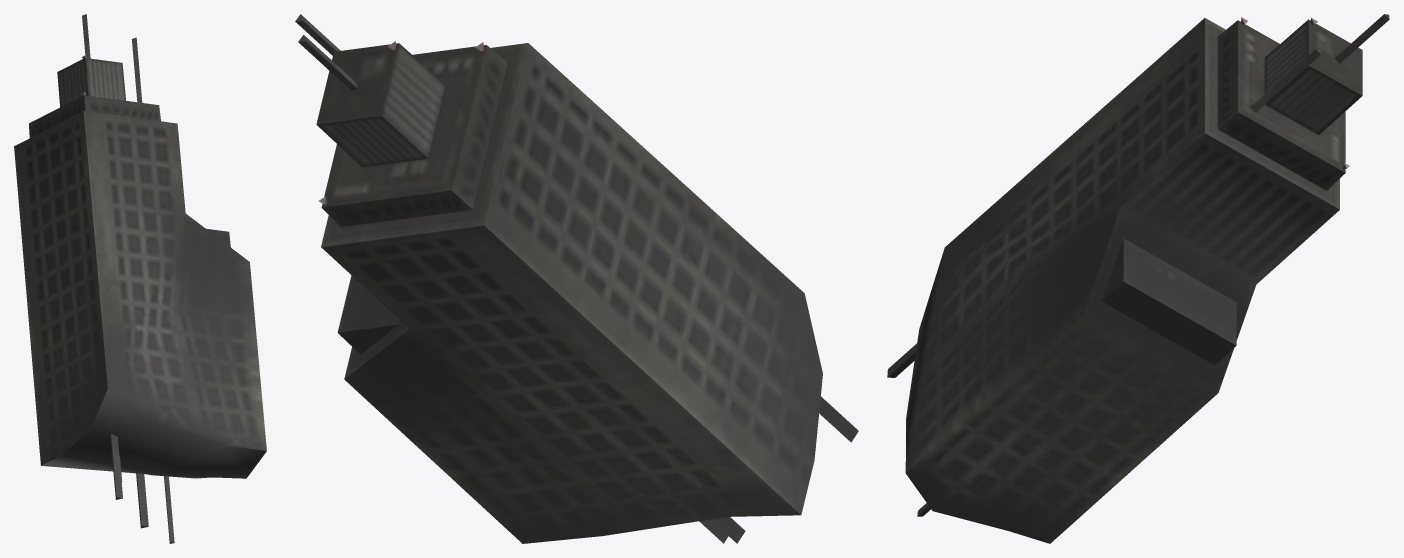
Rendered from skyBuildingAAB_pos_grp (17).fbx.
The picture shows the model from 3 angles, left to right: view 1: azimuth 30°, elevation 25°; view 2: azimuth 150°, elevation 25°; view 3: azimuth 270°, elevation 25°; orthographic projection. The views are drawn at different scales.
Parts seen in each view (by area): view 1: skyBuildingAAB_geo; view 2: skyBuildingAAB_geo; view 3: skyBuildingAAB_geo.
Boxes of the visible parts, x1,y1,x2,y2 form: skyBuildingAAB_geo: (14,14,266,543); skyBuildingAAB_geo: (295,14,858,543); skyBuildingAAB_geo: (887,14,1389,543).
Bounding box in the file's own units: 6.37 × 10.7 × 8.73.
1 material, 1 textured.
